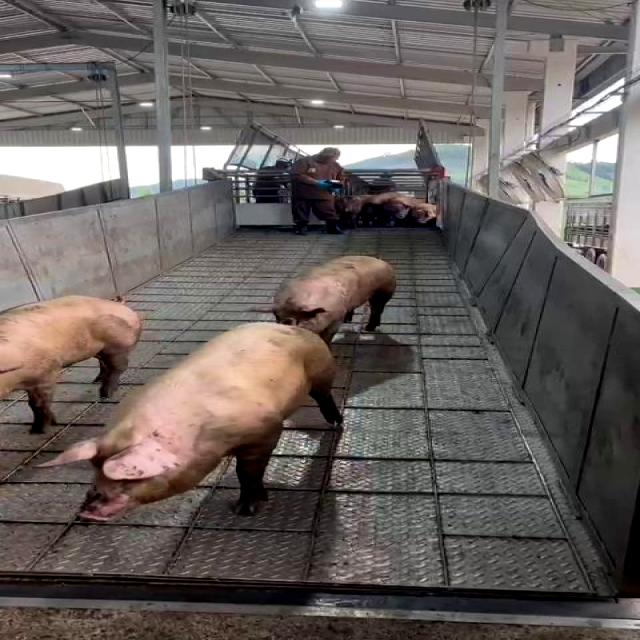pig: (46, 324, 342, 518), (1, 296, 140, 431), (271, 256, 395, 341)
